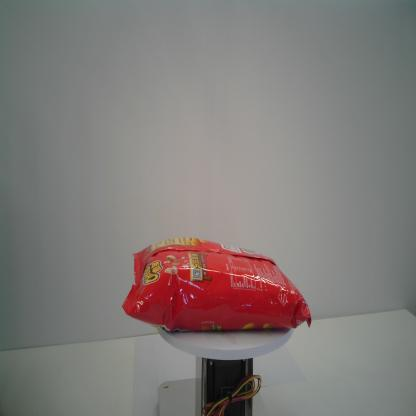Puffed Food: (121, 236, 313, 333)
